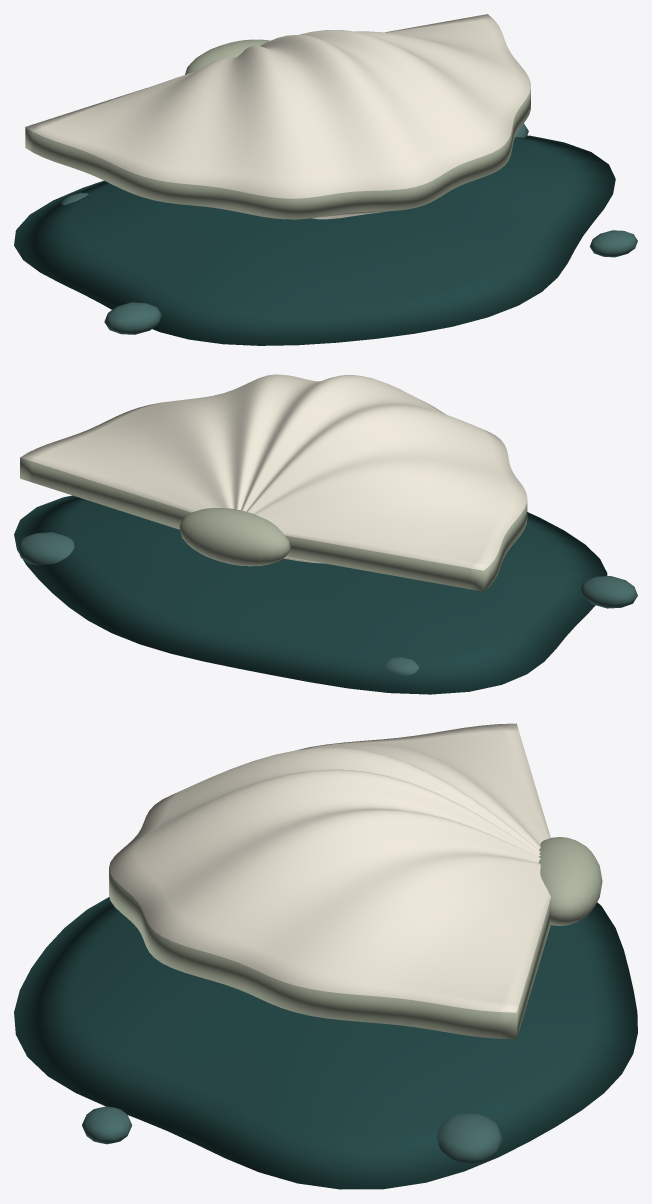
Rendered from hermes-shell.glb.
3 views of the same model, one above another, from view 1: azimuth 30°, elevation 25°; view 2: azimuth 150°, elevation 25°; view 3: azimuth 270°, elevation 25° (orthographic). The views are drawn at different scales.
Parts seen in each view (by area): view 1: shell_bedding, shell_lid, shell_pebble_0, shell_pebble_1, shell-hinge; view 2: shell_lid, shell_bedding, shell-hinge, shell_pebble_2, shell_pebble_0, shell_pebble_3; view 3: shell_lid, shell_bedding, shell-hinge, shell_pebble_2, shell_pebble_1.
Boxes of the visible parts, x1,y1,x2,y2 form: shell_bedding: (14, 135, 615, 345); shell_lid: (25, 14, 530, 219); shell_pebble_0: (104, 302, 161, 334); shell_pebble_1: (589, 230, 637, 257); shell-hinge: (185, 39, 269, 74); shell_lid: (20, 374, 527, 591); shell_bedding: (14, 495, 607, 694); shell-hinge: (179, 508, 290, 566); shell_pebble_2: (17, 532, 74, 565); shell_pebble_0: (580, 576, 637, 608); shell_pebble_3: (386, 657, 418, 675); shell_lid: (109, 723, 551, 1039); shell_bedding: (14, 897, 637, 1189); shell-hinge: (538, 837, 602, 925); shell_pebble_2: (437, 1113, 503, 1164); shell_pebble_1: (82, 1106, 132, 1144).
Size of the model in its own units: 2.47 by 0.851 by 1.9.
